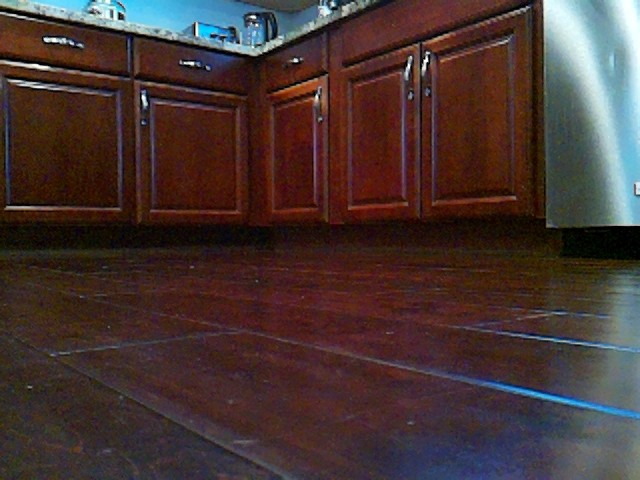Drivable Area: (2, 259, 640, 480)
Obstacle: (0, 0, 639, 235)
